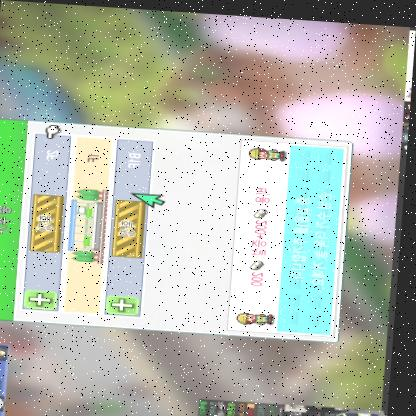streamer: (291, 402, 394, 416)
